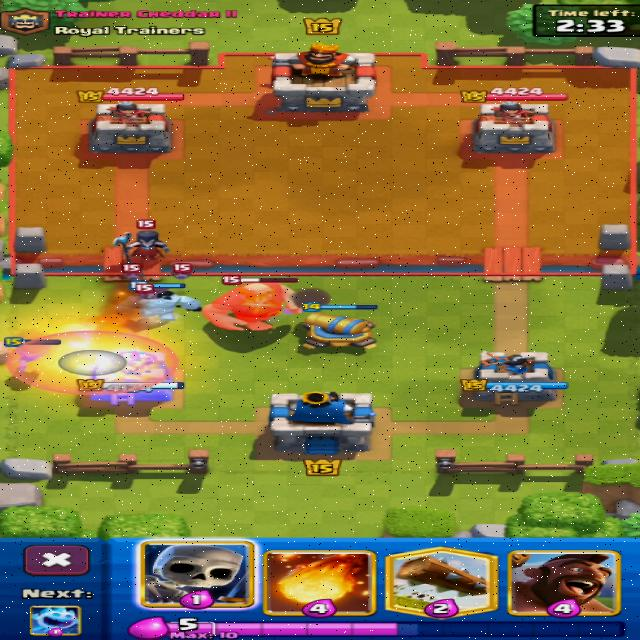Enemy-Bat: (131, 281, 154, 298), (172, 263, 190, 279), (123, 263, 140, 279)
Enemy-Giant: (202, 283, 301, 330)
Enemy-KingTower: (272, 43, 374, 112), (202, 283, 301, 330)
Enemy-NightWitch: (113, 219, 168, 262)
Enemy-PrincessTower: (473, 101, 554, 155), (89, 104, 171, 154)
Player-Cannon: (303, 313, 376, 347)
Player-IceGolem: (118, 282, 201, 325)
Player-KingTower: (268, 392, 374, 455)
Player-Musketeer: (18, 345, 45, 371)
Player-PrincessTower: (78, 350, 183, 405), (460, 351, 566, 405)
